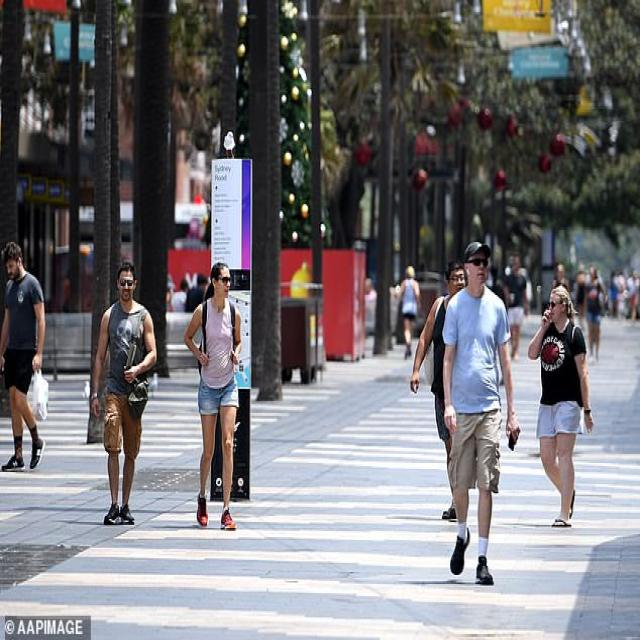persona: (442, 242, 520, 584), (91, 262, 156, 524), (528, 285, 594, 527), (185, 262, 242, 529), (410, 259, 466, 469), (0, 242, 45, 471), (399, 266, 420, 357), (441, 502, 456, 521)
